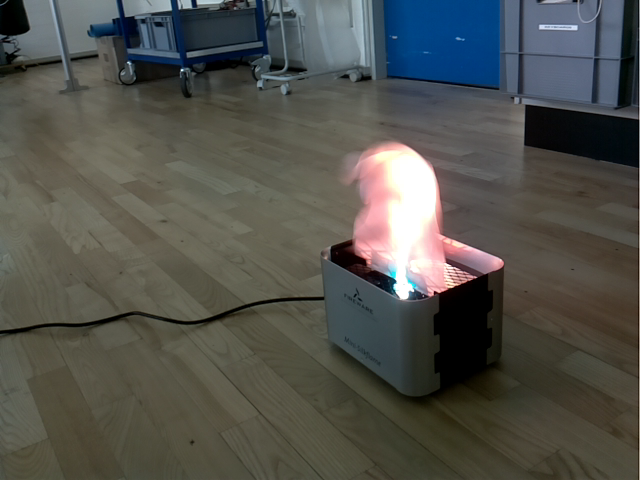fire: (342, 139, 446, 296)
